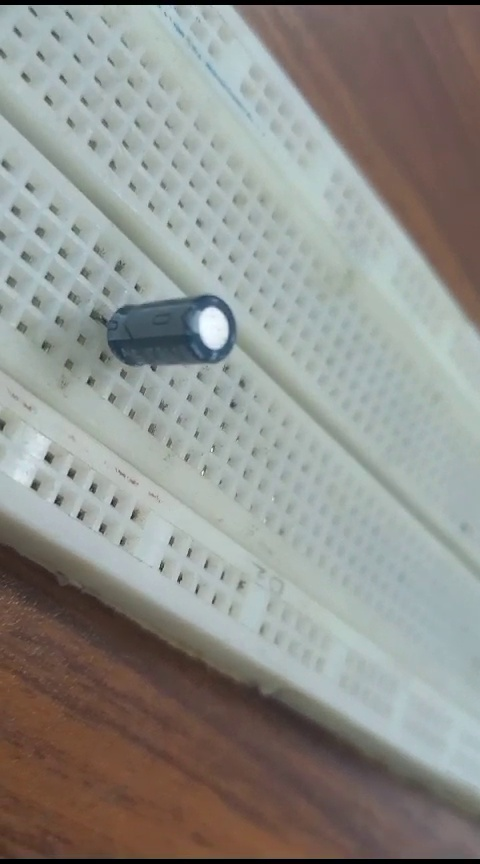capacitor: (79, 287, 240, 373)
